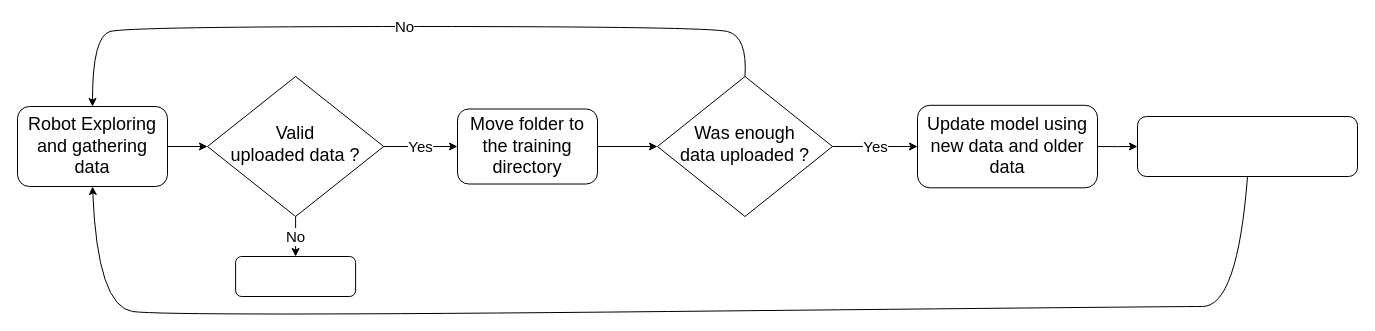
This 1375x331 diagram has some shape labels left out. The centre of each missing label's shape, as x and y in pixels:
Delete folder: [295,276]
Upload model back to the robot: [1247,146]
